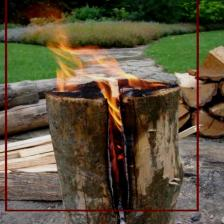fire: (4, 0, 198, 211)
